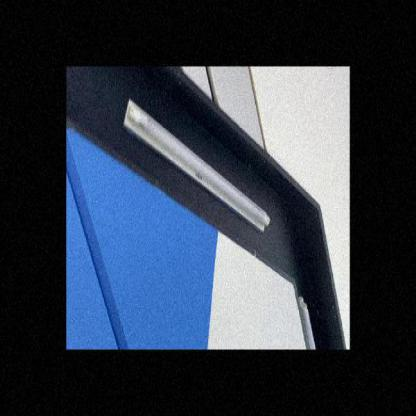light_off: (120, 95, 271, 236), (293, 285, 320, 350)
